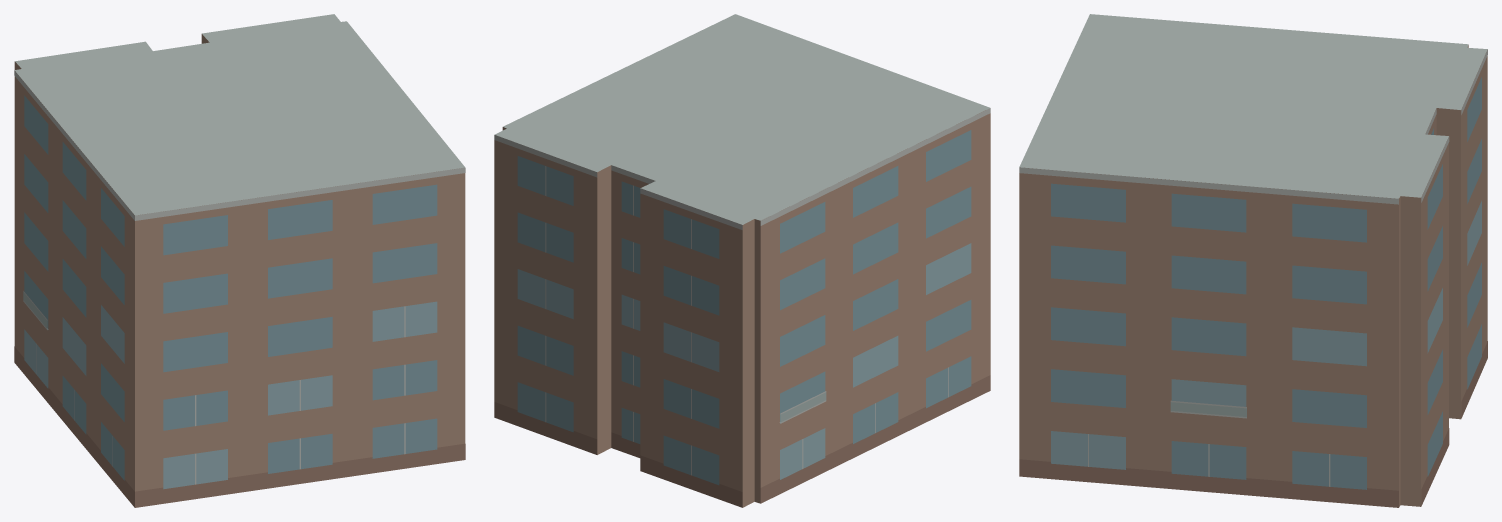
File: survey-upis-32657082.glb
3 renders of one model, left to right at view 1: azimuth 30°, elevation 25°; view 2: azimuth 150°, elevation 25°; view 3: azimuth 270°, elevation 25°, orthographic. The views are drawn at different scales.
Visible parts, largest first — view 1: survey-upis-32657082.tmp; view 2: survey-upis-32657082.tmp; view 3: survey-upis-32657082.tmp.
Part boxes in pixels (box(x1,y1,x2,y2)): survey-upis-32657082.tmp: box(14, 14, 465, 507); survey-upis-32657082.tmp: box(494, 14, 990, 507); survey-upis-32657082.tmp: box(1019, 14, 1487, 507).
Size of the model in its own units: 16.67 by 13 by 17.87.
